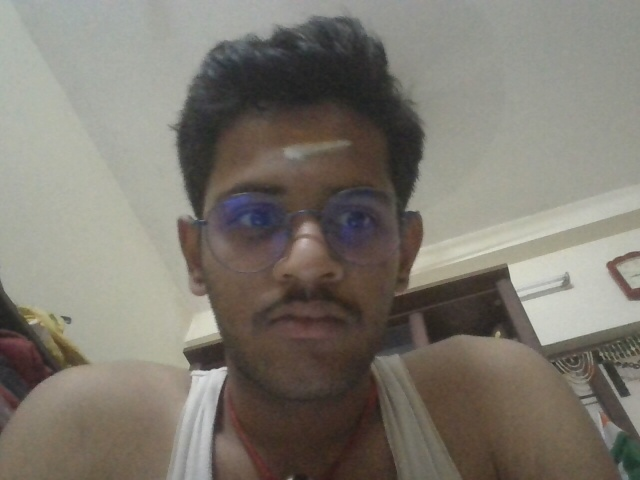real: (175, 117, 435, 377)
